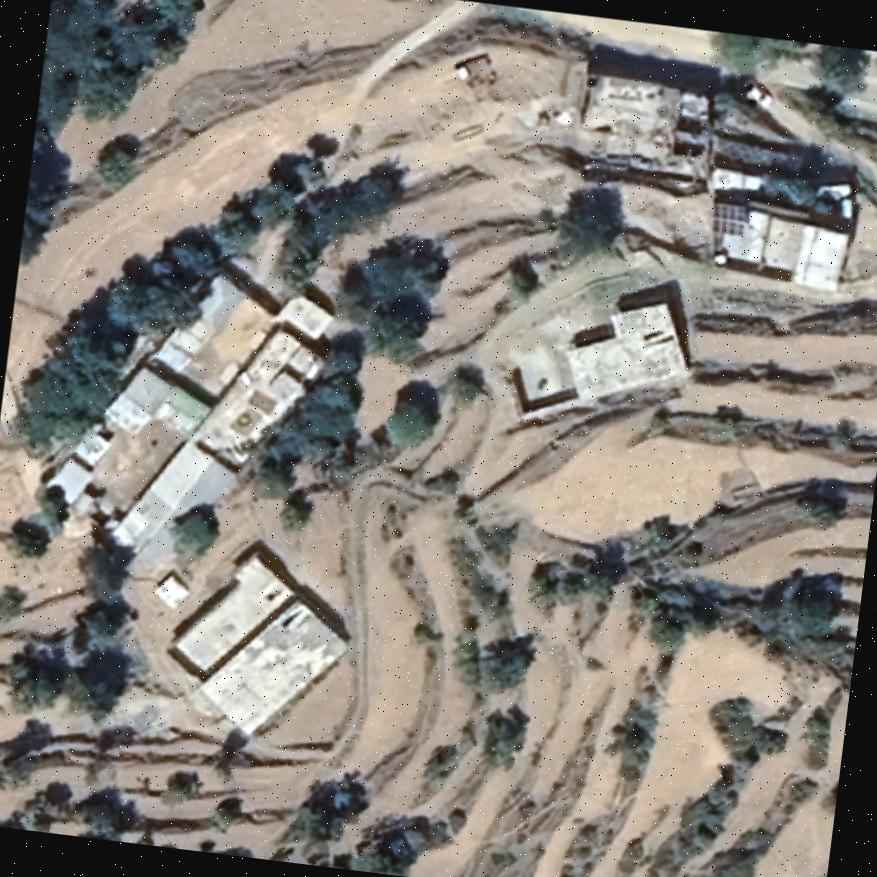Solarpanel: (708, 198, 752, 239)
